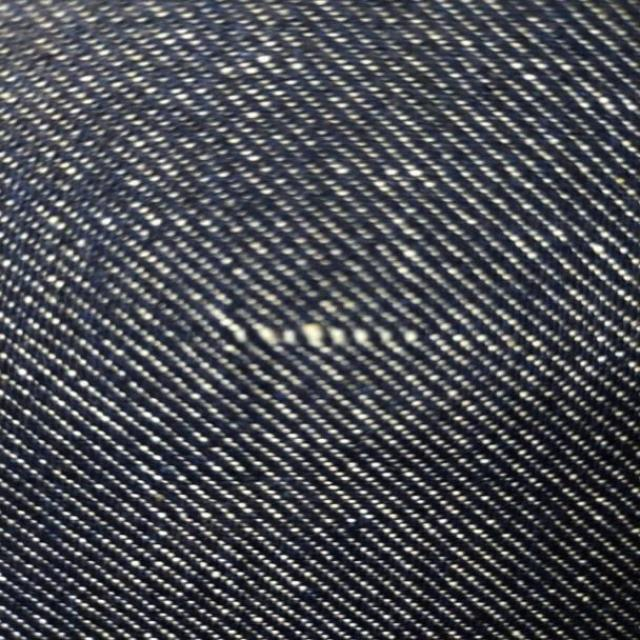Knot: (225, 322, 421, 349)
